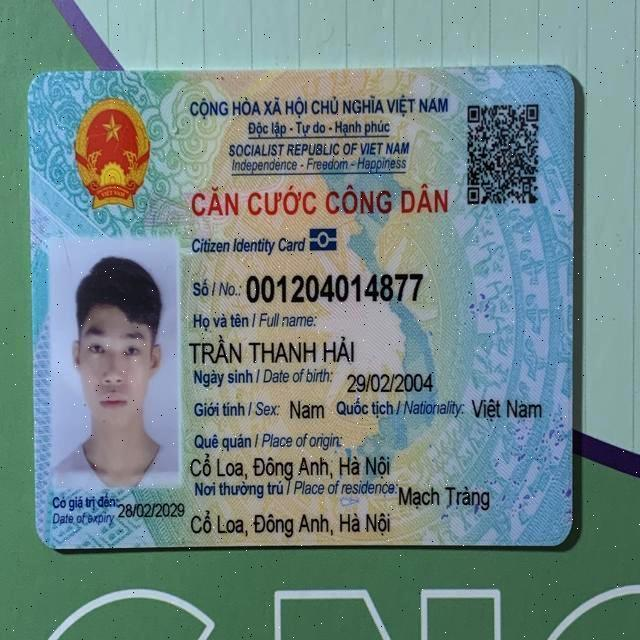current_place: (188, 509, 392, 537), (396, 482, 492, 511)
dob: (348, 369, 432, 397)
expire_date: (117, 496, 187, 522)
gender: (289, 394, 325, 421)
id: (241, 270, 425, 300)
name: (189, 333, 359, 364)
nationality: (468, 393, 549, 426)
origin_place: (188, 452, 393, 479)
